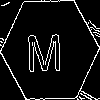M: (25, 25, 63, 72)
